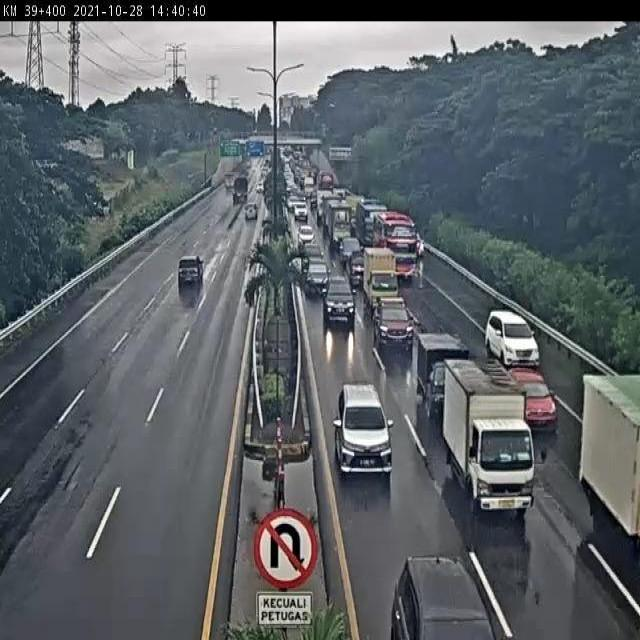bus-l-: (372, 215, 419, 276)
car: (389, 553, 495, 640), (334, 384, 393, 475), (487, 306, 541, 366), (510, 364, 556, 427), (371, 295, 412, 352), (323, 279, 355, 321), (304, 259, 329, 293), (348, 253, 368, 287), (179, 256, 203, 284), (299, 240, 323, 265), (339, 237, 360, 264)
truck-s-: (444, 357, 535, 515), (419, 332, 468, 415), (364, 250, 403, 310)
